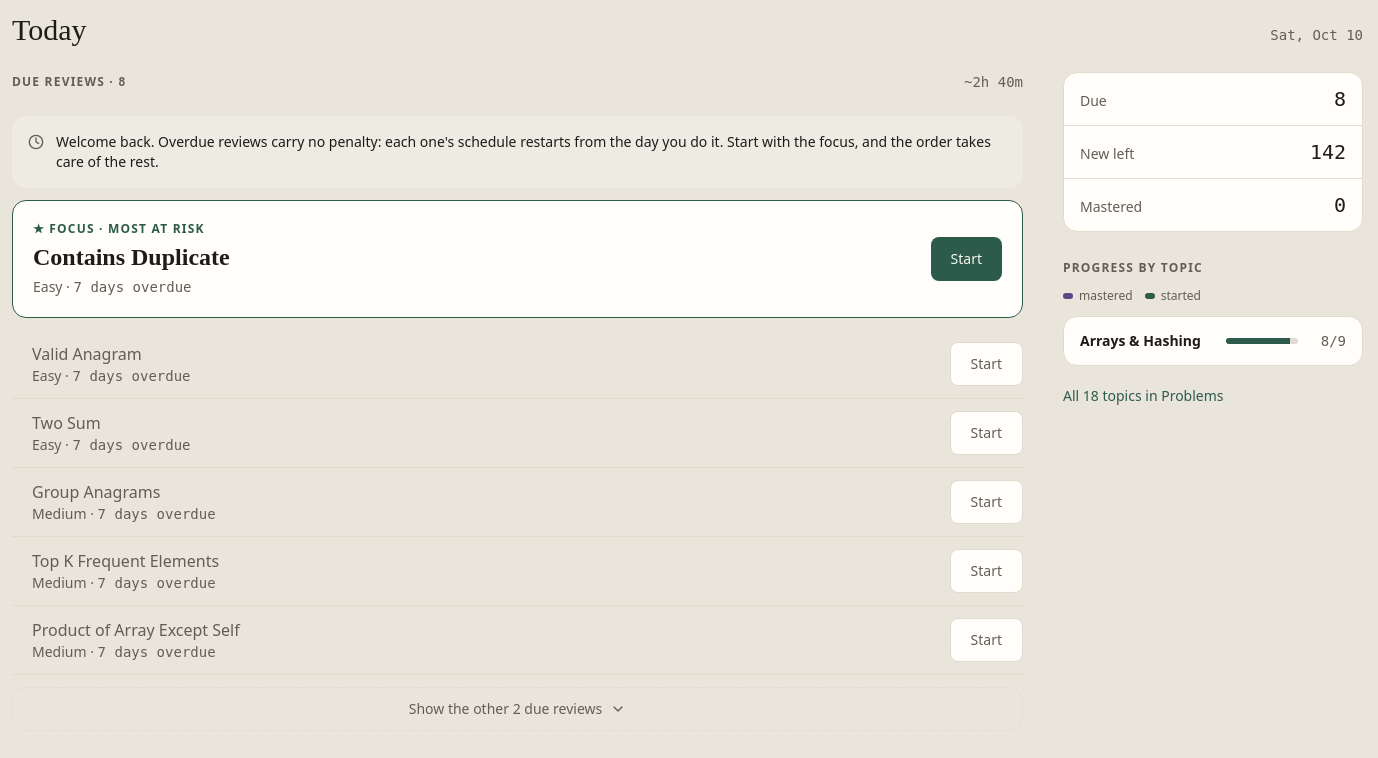
Test case: TodayPage › shows the rest of a big backlog when asked
The width and height of the screenshot is (1378, 758).
Click the button "Show the other 2 due reviews" at (518,709), box [12,687,1023,731]
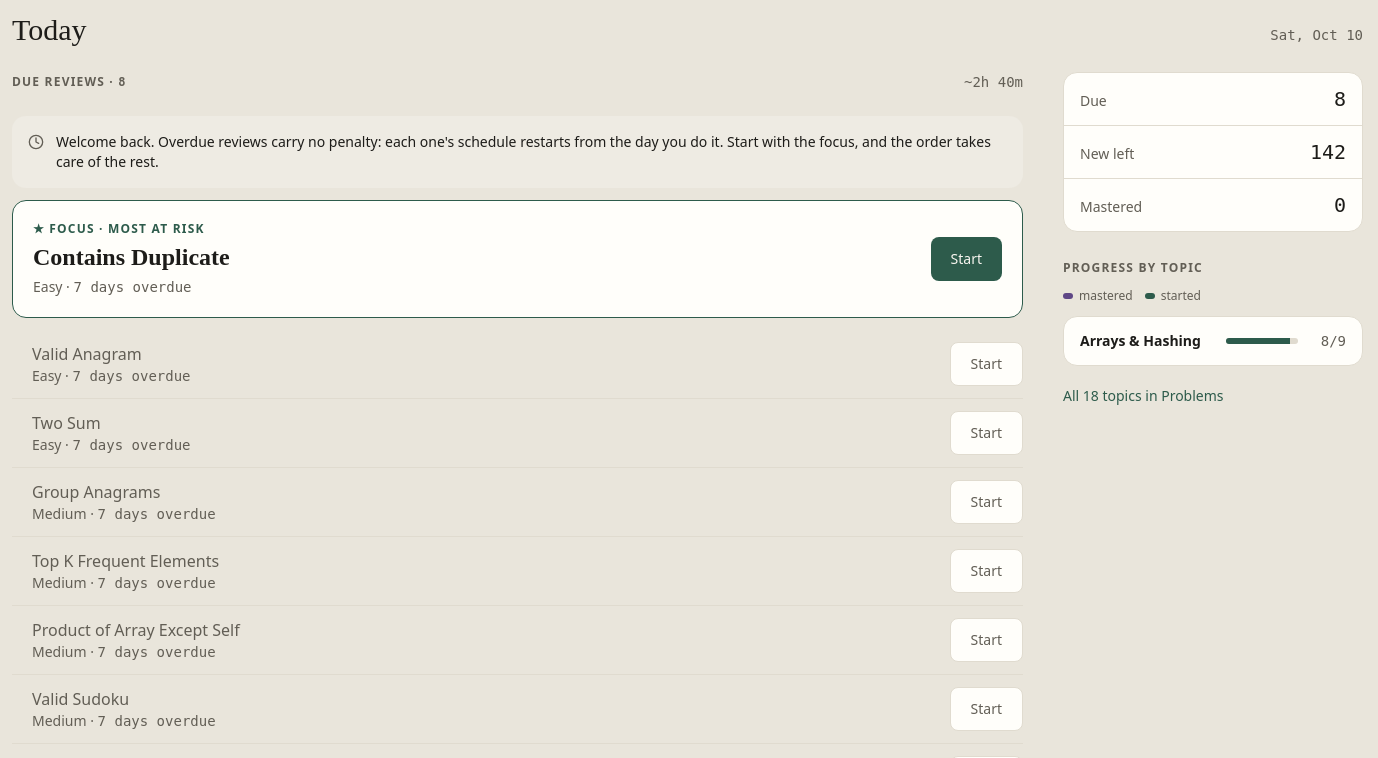
Check: the button "Show the other" is gone
